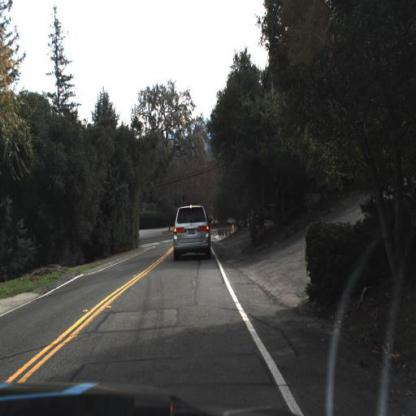car: (163, 202, 221, 265)
